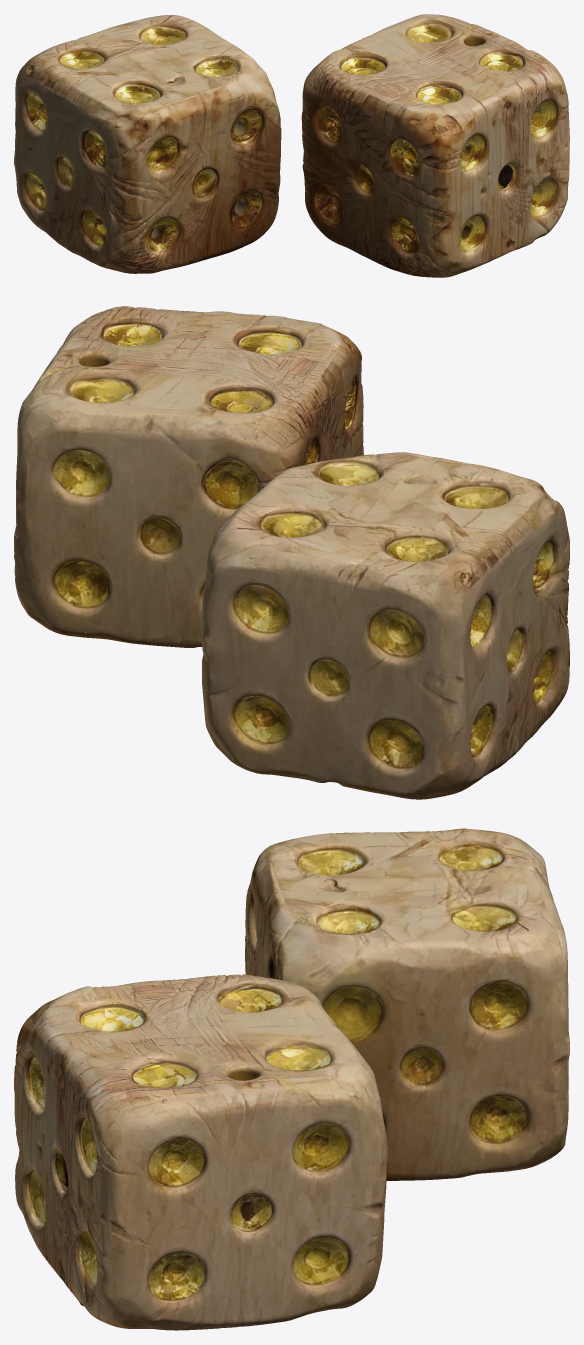
File: dice.glb
The picture shows the model from 3 angles, top to bottom: view 1: azimuth 30°, elevation 25°; view 2: azimuth 150°, elevation 25°; view 3: azimuth 270°, elevation 25°; orthographic projection. The views are drawn at different scales.
Visible parts, largest first — view 1: tripo_node_e005c7b2-5763-475c-92ea-635c99ea949d; view 2: tripo_node_e005c7b2-5763-475c-92ea-635c99ea949d; view 3: tripo_node_e005c7b2-5763-475c-92ea-635c99ea949d.
Boxes of the visible parts, left/top/right/bottom form: tripo_node_e005c7b2-5763-475c-92ea-635c99ea949d: left=14, top=14, right=569, bottom=277; tripo_node_e005c7b2-5763-475c-92ea-635c99ea949d: left=14, top=306, right=569, bottom=799; tripo_node_e005c7b2-5763-475c-92ea-635c99ea949d: left=14, top=828, right=569, bottom=1330.
Size of the model in its own units: 0.9796 by 0.3783 by 0.7964.
Materials: 1 (1 with a texture image).
